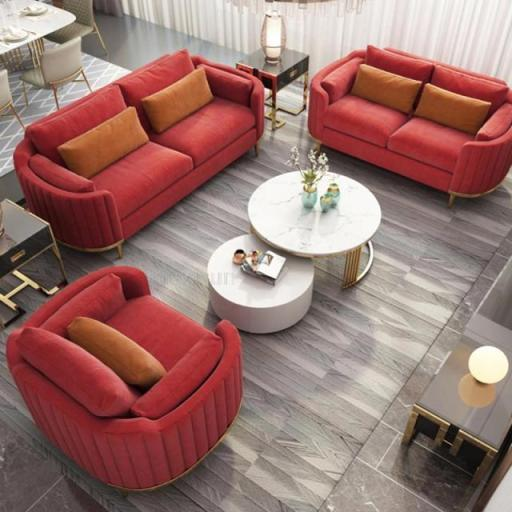sofa: (12, 30, 281, 242), (12, 264, 254, 494), (314, 19, 510, 226)
